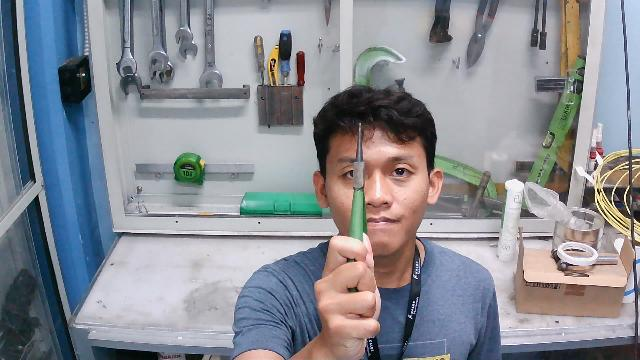tang_cucut_lancip_2: (336, 116, 382, 298)
